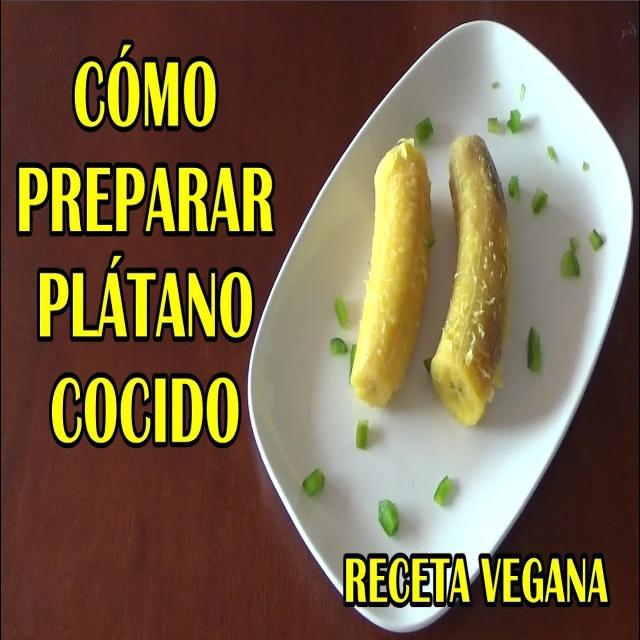platano: (431, 127, 517, 434), (352, 125, 434, 415)
